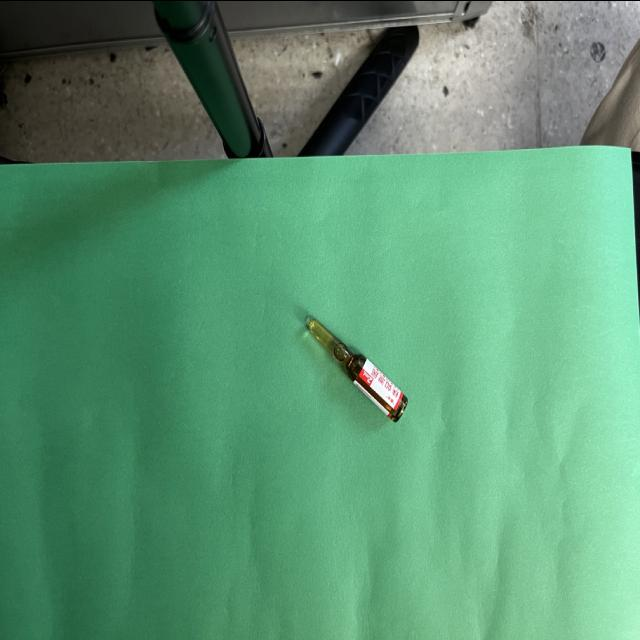Ampoules: (308, 317, 408, 421)
